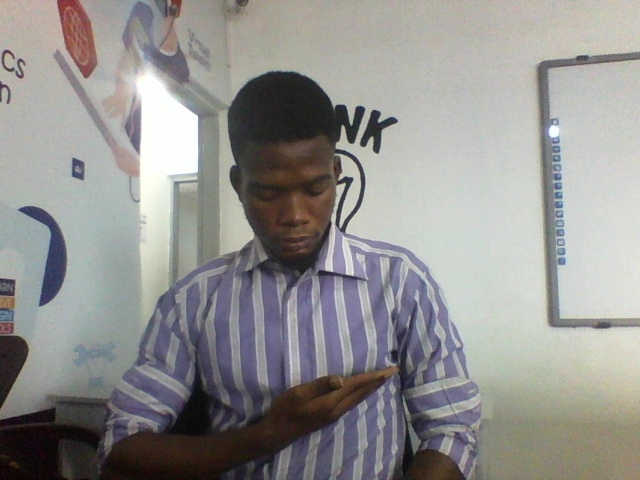you_are_welcome: (141, 371, 417, 474)
